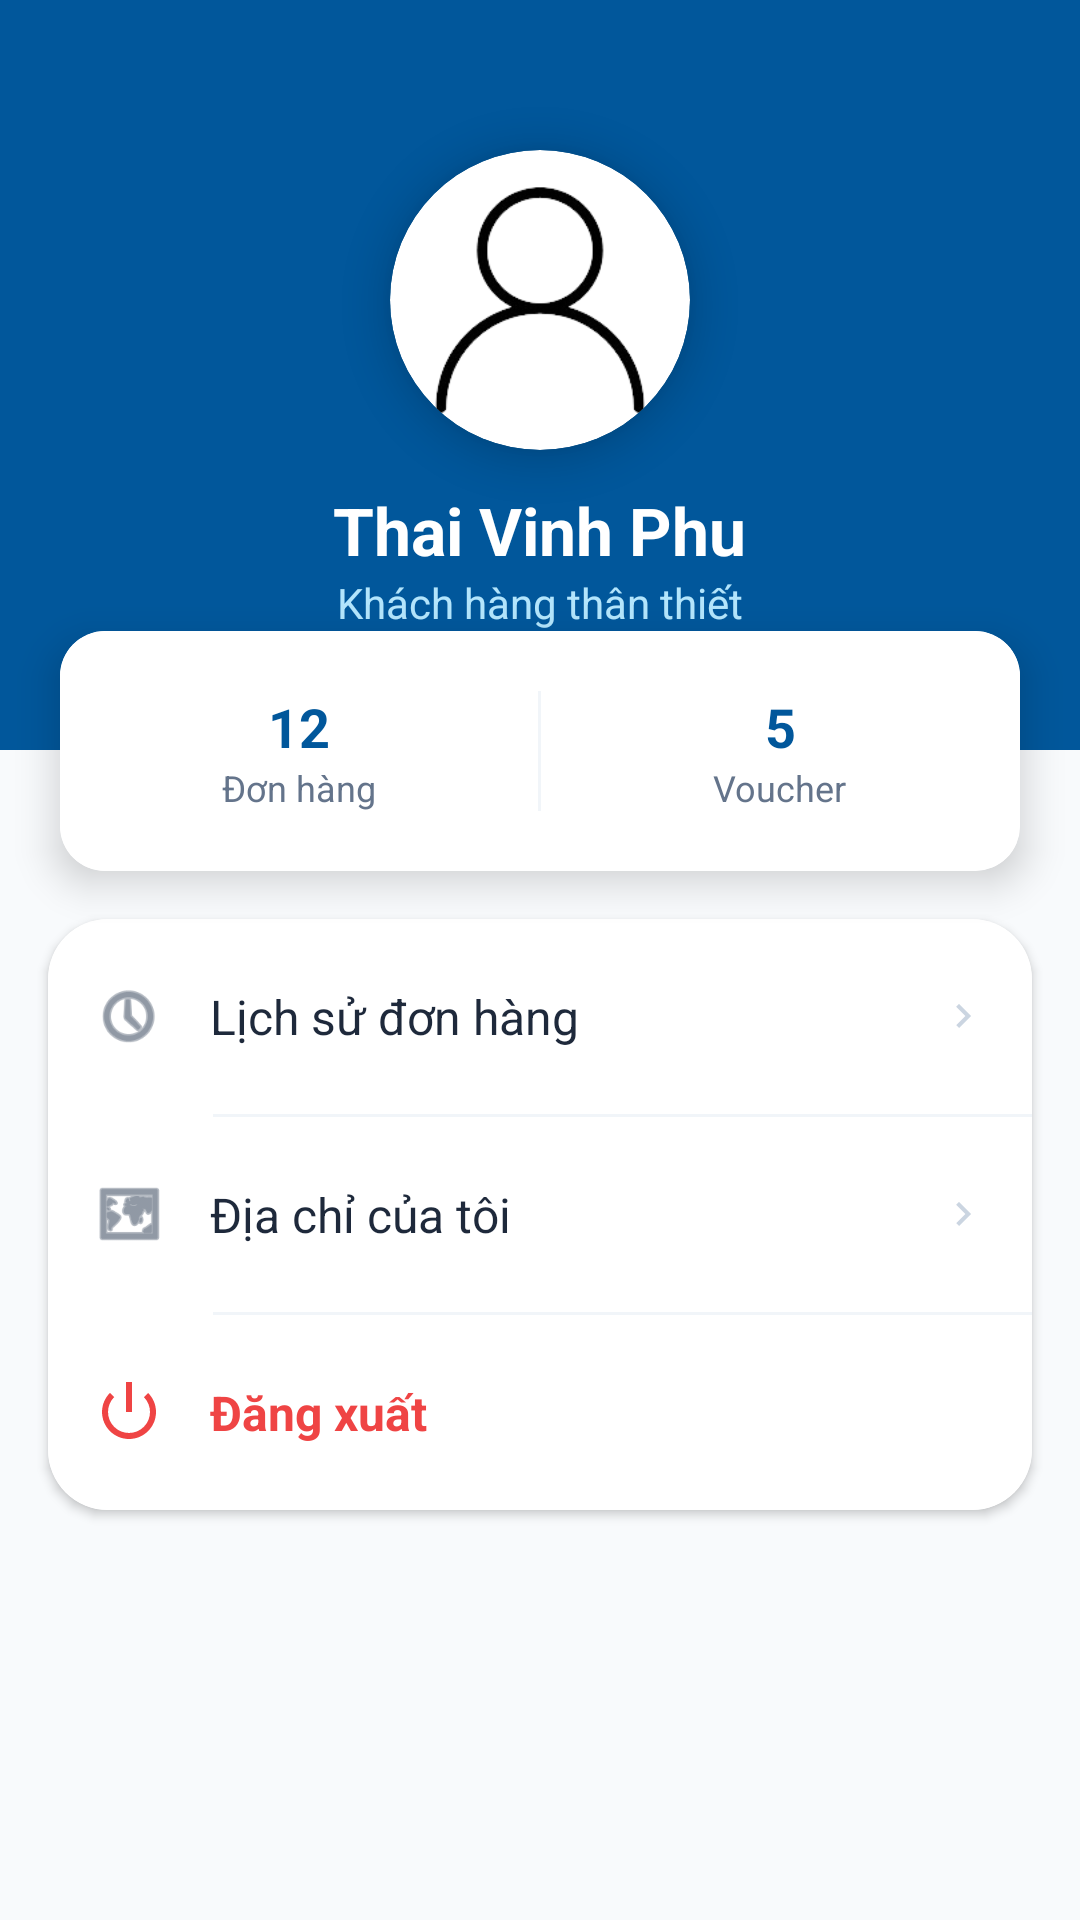

Named icons in this screenshot (1080 × 1920) and their centers, [x,y]:
arrow right: [963,1016], [963,1214]
lock power off: [129,1410]
mapmode: [129,1214]
profile: [540,300]
recent history: [129,1016]
